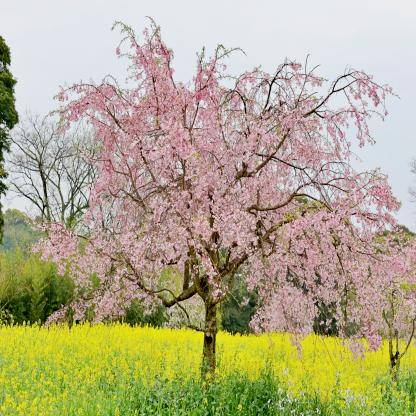ShidareZakura: (23, 16, 416, 370)
